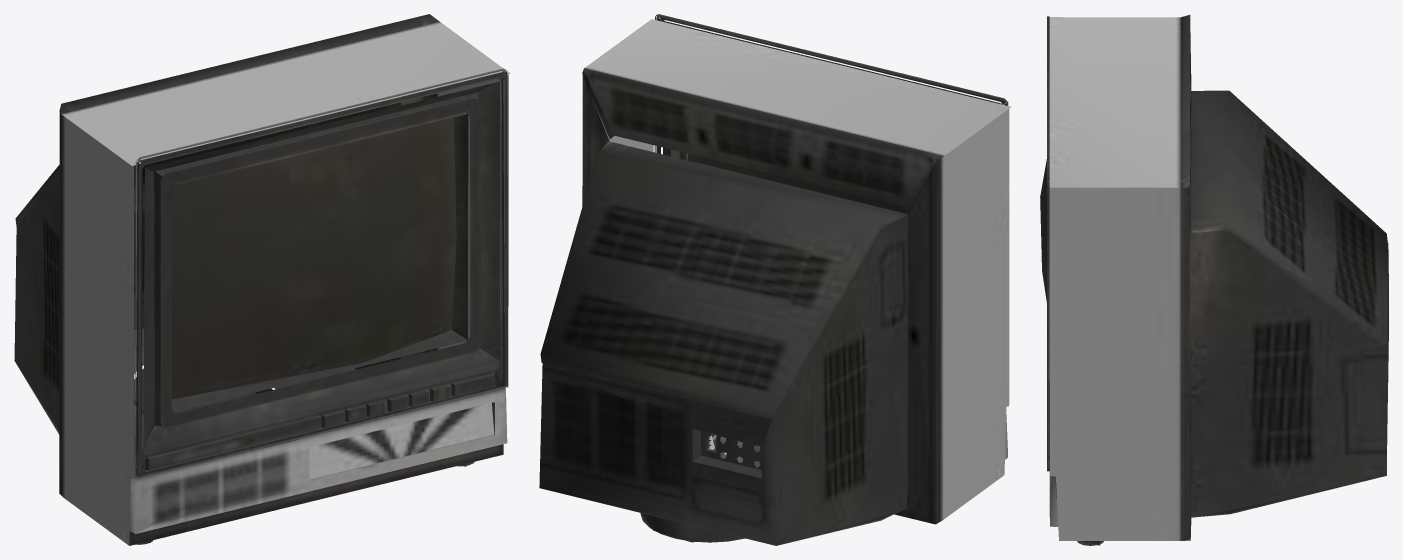
Rendered from television.gltf.
The picture shows the model from 3 angles, left to right: view 1: azimuth 30°, elevation 25°; view 2: azimuth 150°, elevation 25°; view 3: azimuth 270°, elevation 25°; orthographic projection. The views are drawn at different scales.
Visible parts, largest first — view 1: television_02; view 2: television_02; view 3: television_02.
Boxes of the visible parts, bbox=[...] form: television_02: bbox=[14, 14, 510, 545]; television_02: bbox=[539, 14, 1010, 545]; television_02: bbox=[1040, 15, 1388, 545].
Size of what is drawn, in the model's own units: 0.4048 by 0.4111 by 0.3497.
1 material, 1 textured.
